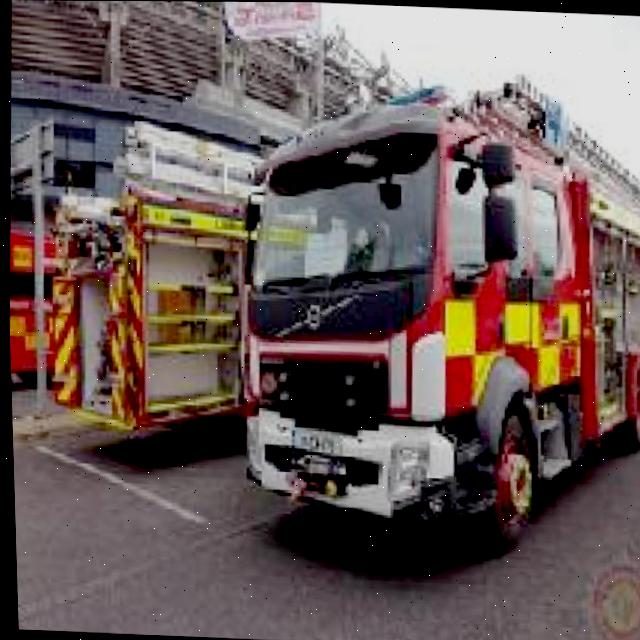emergency: (222, 64, 640, 559)
